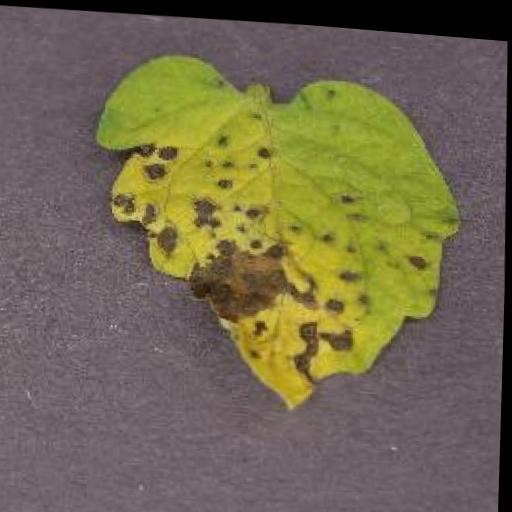Septoria: (88, 43, 468, 421)
